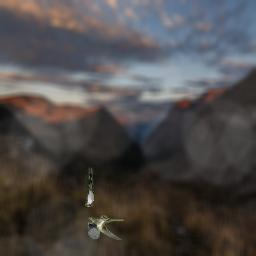Cuckoo: (85, 167, 94, 207)
Swallow: (88, 215, 124, 240)
